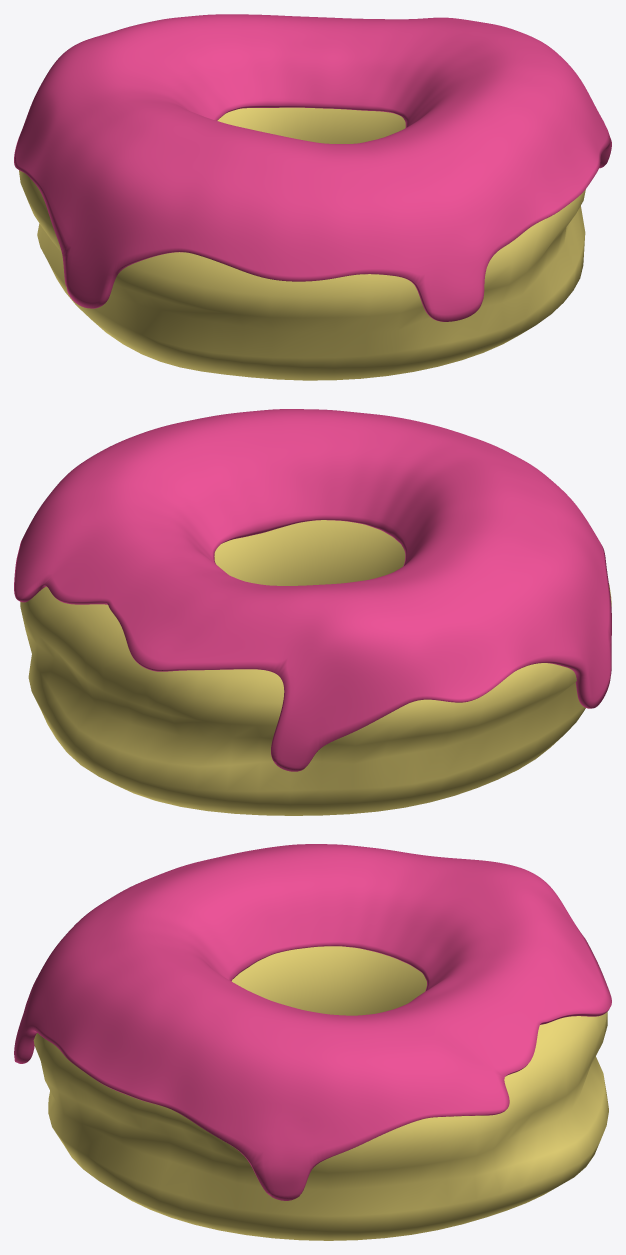
The model's file is donut.fbx.
3 views of the same model, one above another, from view 1: azimuth 30°, elevation 25°; view 2: azimuth 150°, elevation 25°; view 3: azimuth 270°, elevation 25° (orthographic). The views are drawn at different scales.
Parts seen in each view (by area): view 1: Icing, Donut; view 2: Icing, Donut; view 3: Icing, Donut.
Boxes of the visible parts, x1,y1,x2,y2 form: Icing: [14, 14, 611, 321]; Donut: [19, 107, 585, 380]; Icing: [14, 409, 611, 771]; Donut: [20, 520, 611, 815]; Icing: [14, 844, 611, 1200]; Donut: [33, 946, 608, 1240].
Bounding box in the file's own units: 15.11 × 6.08 × 14.69.
